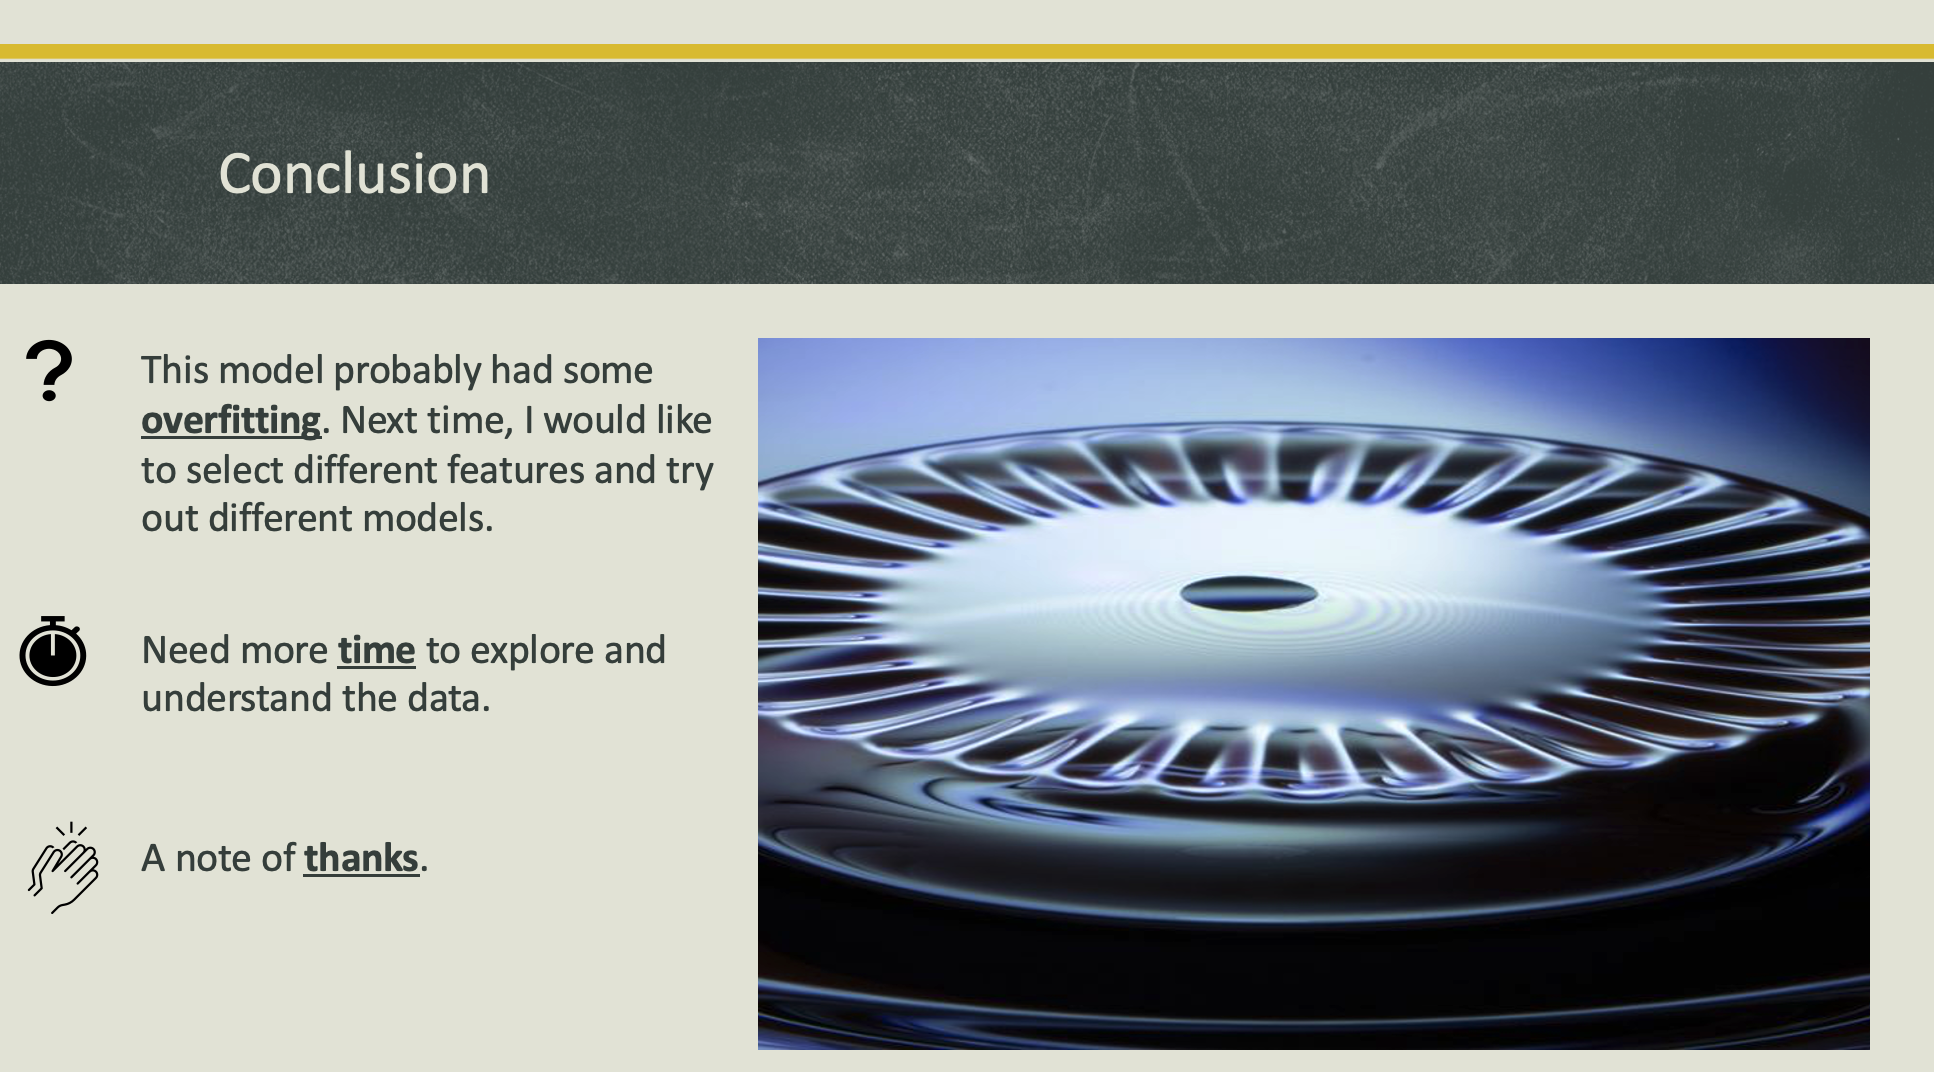

What the dashboard file says about the page in this screenshot:
{"tool":"tableau","page":{"name":"Conclusion","canvas":[975,550],"ordinal":0},"visuals":[{"type":"worksheet","box":[0,0,975,550]},{"type":"worksheet","param":"/Users/gigijones/Desktop/Screen Shot 2021-05-26 at 10.11.24 PM.png","box":[8,8,959,534]}]}

Visuals, with their boxes in screenshot pixels (x1, y1, x2, y2), scaled from the page's 975x550 canvas onto the 1934x1072 screenshot:
worksheet: <box>0,0,1933,1071</box>
worksheet: <box>16,16,1918,1056</box>
